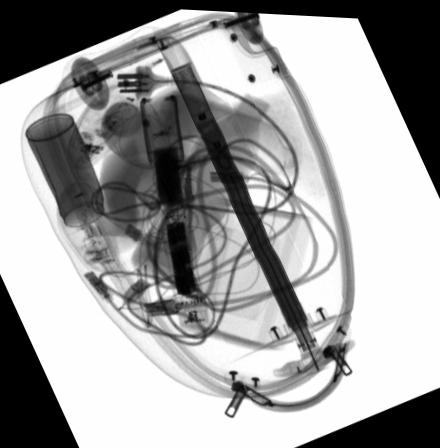Baton: (139, 92, 208, 329)
